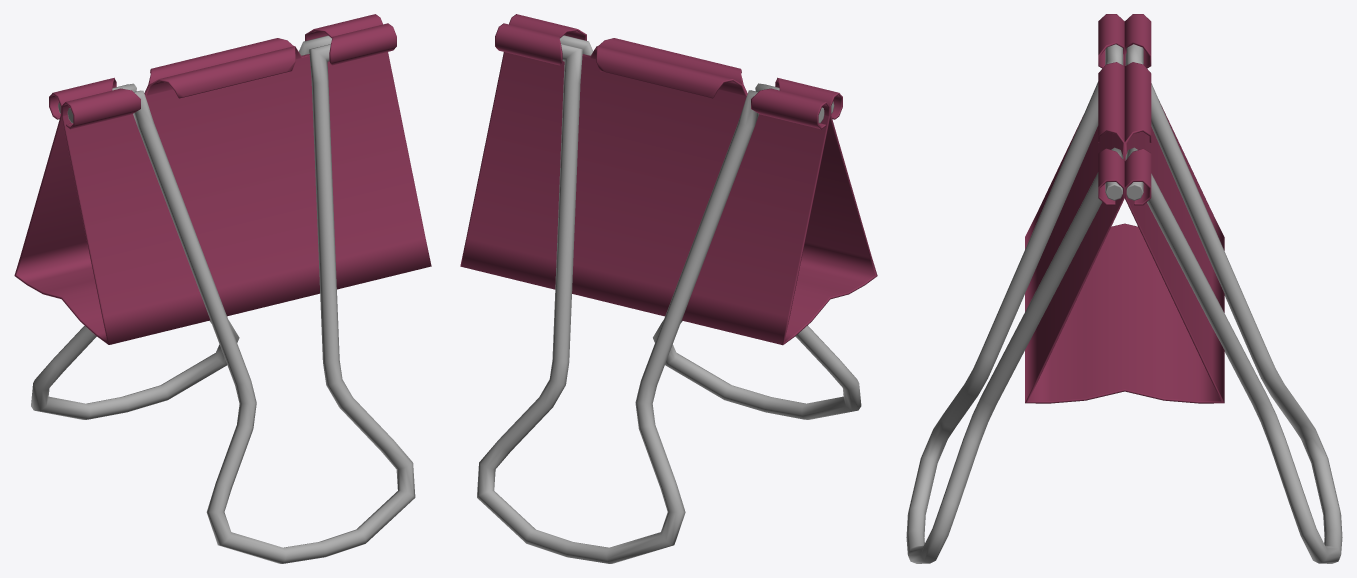
Rendered from clip_t_.fbx.
3 renders of one model, left to right at view 1: azimuth 30°, elevation 25°; view 2: azimuth 150°, elevation 25°; view 3: azimuth 270°, elevation 25°, orthographic. The views are drawn at different scales.
Parts seen in each view (by area): view 1: scene.obj; view 2: scene.obj; view 3: scene.obj.
Part boxes in pixels (x1=…): scene.obj: x1=14, y1=14, x2=431, y2=563; scene.obj: x1=460, y1=14, x2=877, y2=563; scene.obj: x1=906, y1=14, x2=1342, y2=563.
Bounding box in the file's own units: 7.07 × 8.89 × 7.83.
